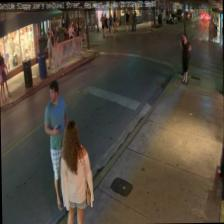person: (58, 119, 94, 224)
